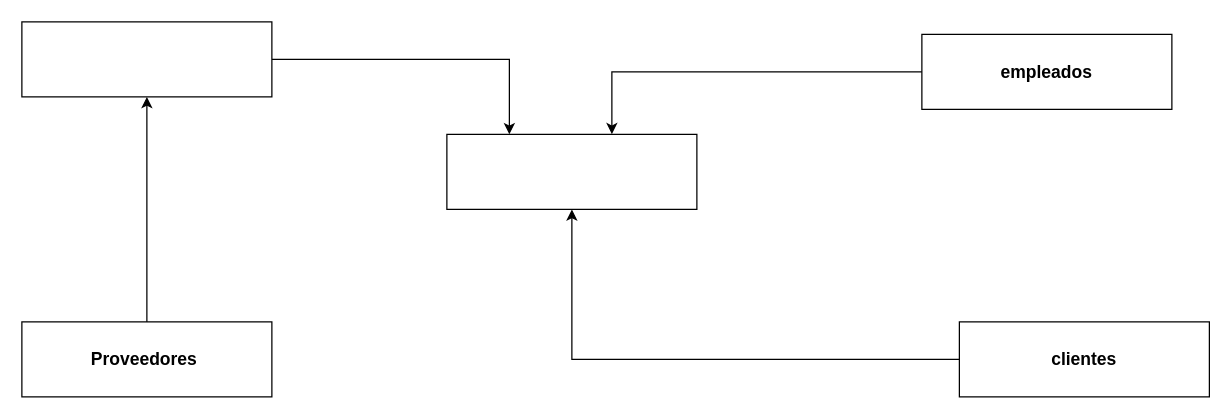
Some shapes in this 1231 by 419 pixel diagram are drawn without their labels. Each missing label, with the centre of its shape:
productos: point (146, 59)
ventas: point (571, 171)
